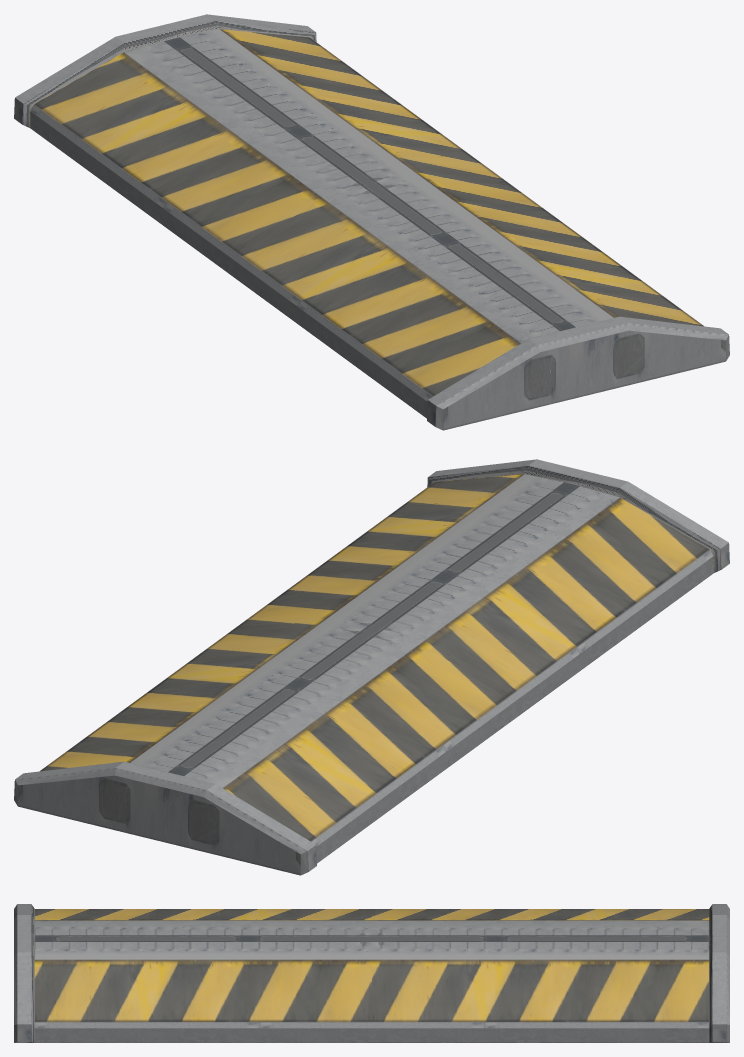
The model's file is SM_WarningPass.fbx.
The picture shows the model from 3 angles, top to bottom: view 1: azimuth 30°, elevation 25°; view 2: azimuth 150°, elevation 25°; view 3: azimuth 270°, elevation 25°; orthographic projection. The views are drawn at different scales.
Parts seen in each view (by area): view 1: SM_WarningPass_LOD0; view 2: SM_WarningPass_LOD0; view 3: SM_WarningPass_LOD0.
Part boxes in pixels (x1,y1,x2,y2): SM_WarningPass_LOD0: (14, 14, 729, 430); SM_WarningPass_LOD0: (14, 459, 729, 875); SM_WarningPass_LOD0: (14, 904, 729, 1042).
Size of the model in its own units: 39.99 by 100 by 7.88.
1 material, 1 textured.
